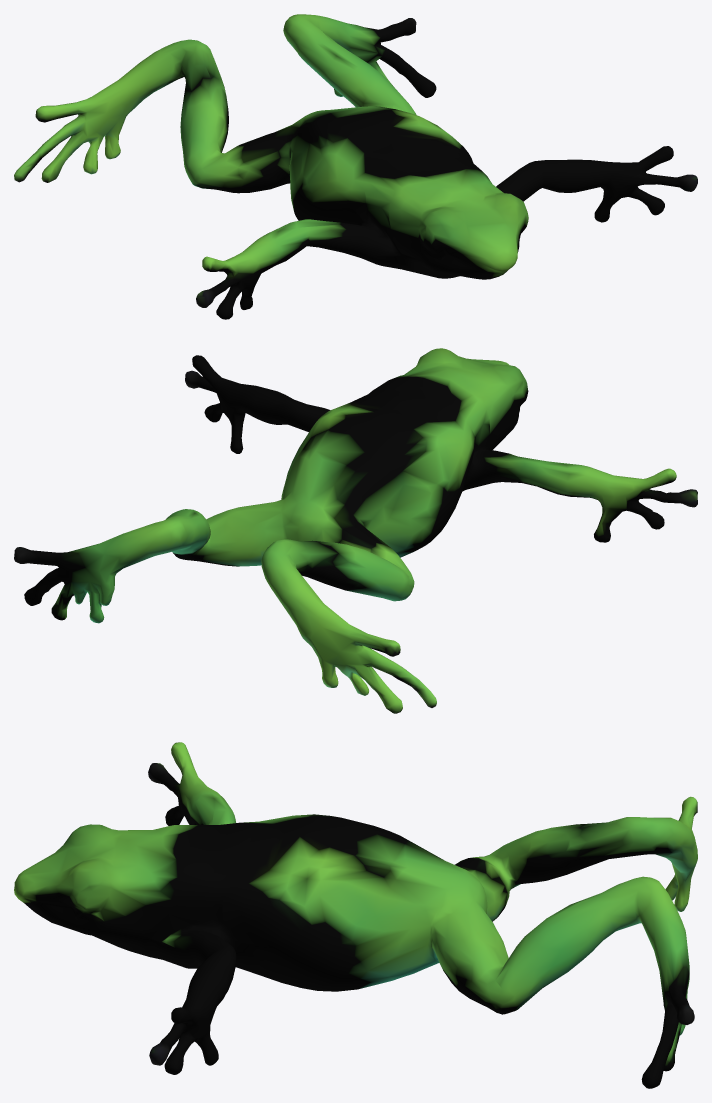
Rendered from auratus.swim.lo.glb.
The picture shows the model from 3 angles, top to bottom: view 1: azimuth 30°, elevation 25°; view 2: azimuth 150°, elevation 25°; view 3: azimuth 270°, elevation 25°; orthographic projection. The views are drawn at different scales.
Parts seen in each view (by area): view 1: auratus.swim; view 2: auratus.swim; view 3: auratus.swim.
Boxes of the visible parts, x1=… form: auratus.swim: x1=14, y1=14, x2=697, y2=319; auratus.swim: x1=14, y1=348, x2=697, y2=713; auratus.swim: x1=14, y1=742, x2=697, y2=1088.
Bounding box in the file's own units: 0.0583 × 0.0146 × 0.0586.
